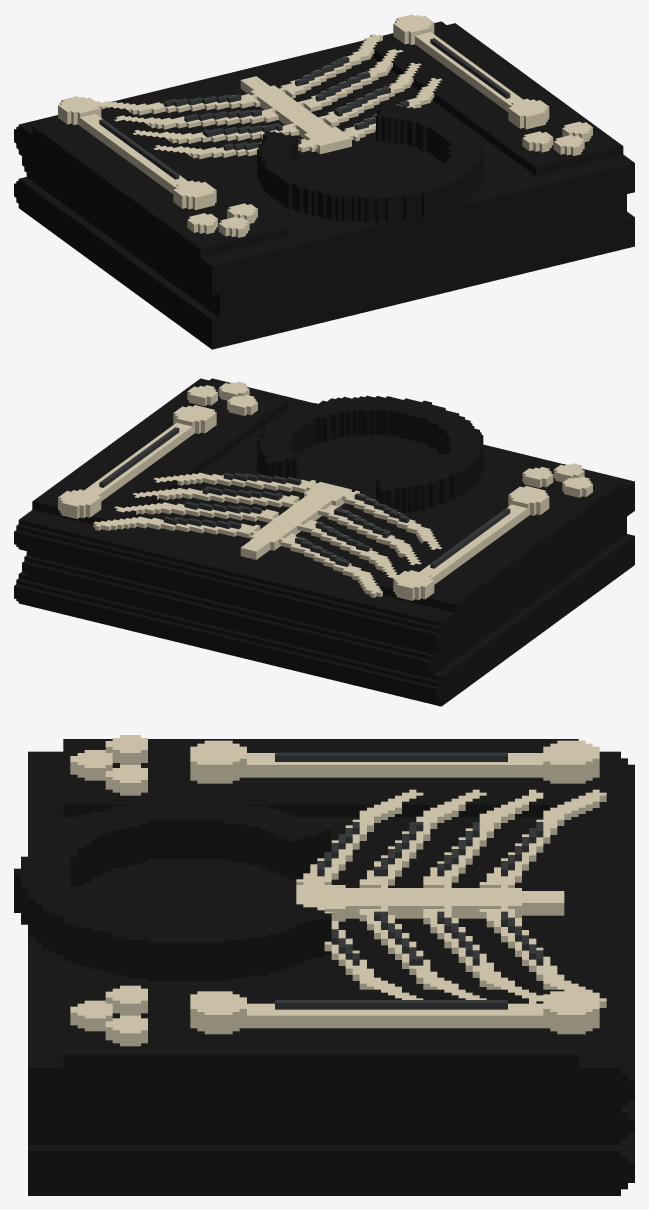
File: jacket_leather_bone.glb
The picture shows the model from 3 angles, top to bottom: view 1: azimuth 30°, elevation 25°; view 2: azimuth 150°, elevation 25°; view 3: azimuth 270°, elevation 25°; orthographic projection. The views are drawn at different scales.
Parts seen in each view (by area): view 1: jacket_leather_bone:compound; view 2: jacket_leather_bone:compound; view 3: jacket_leather_bone:compound.
Part boxes in pixels (box(x1,y1,x2,y2)): jacket_leather_bone:compound: box(14, 14, 634, 349); jacket_leather_bone:compound: box(14, 378, 634, 706); jacket_leather_bone:compound: box(14, 735, 634, 1195).
Bounding box in the file's own units: 0.424 × 0.104 × 0.352.
